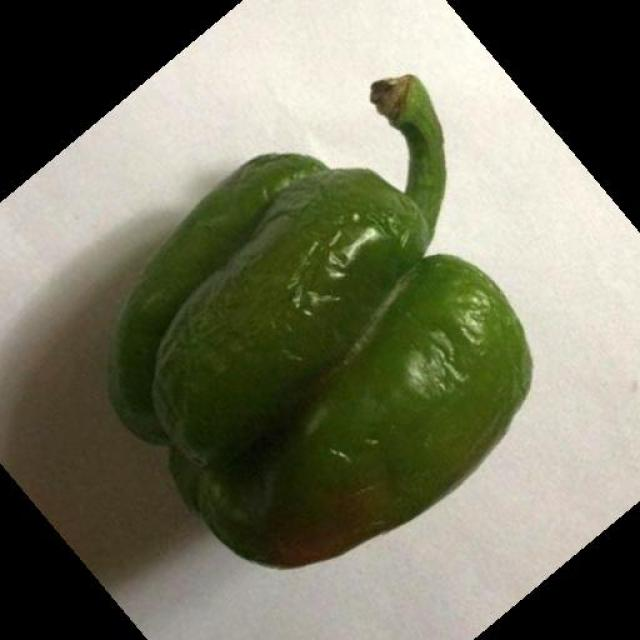Stale_Capsicum: (141, 85, 514, 561)
